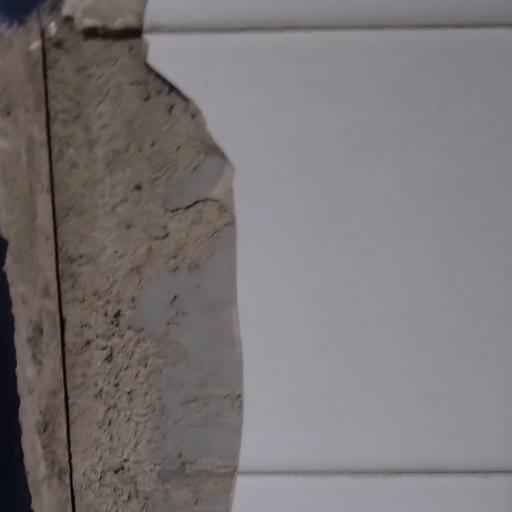spalling: (45, 0, 261, 510)
